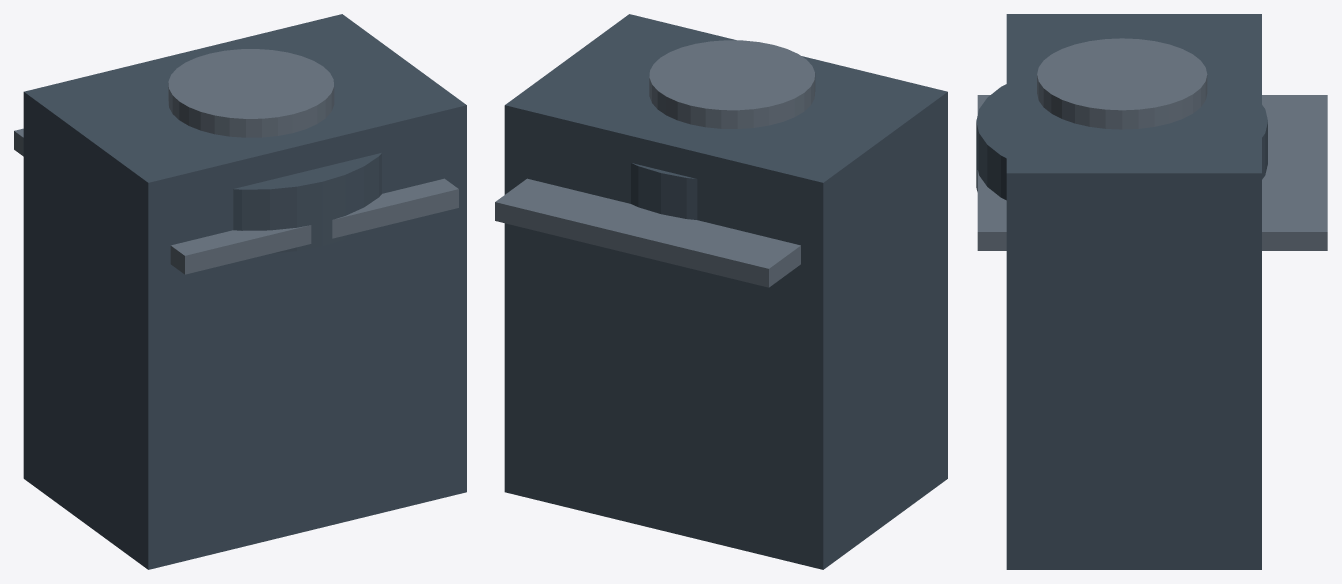
File: current_transformer.glb
3 renders of one model, left to right at view 1: azimuth 30°, elevation 25°; view 2: azimuth 150°, elevation 25°; view 3: azimuth 270°, elevation 25°, orthographic. The views are drawn at different scales.
Visible parts, largest first — view 1: current_transformer_0, current_transformer_4, current_transformer_3, current_transformer_1; view 2: current_transformer_0, current_transformer_1, current_transformer_4, current_transformer_3; view 3: current_transformer_0, current_transformer_4, current_transformer_1, current_transformer_3.
Part boxes in pixels (<box>): current_transformer_0: <box>23,14,466,569</box>; current_transformer_4: <box>168,49,334,137</box>; current_transformer_3: <box>233,153,381,253</box>; current_transformer_1: <box>14,128,458,274</box>; current_transformer_0: <box>504,14,947,569</box>; current_transformer_1: <box>495,178,800,287</box>; current_transformer_4: <box>649,40,815,128</box>; current_transformer_3: <box>631,163,697,219</box>; current_transformer_0: <box>1006,14,1261,569</box>; current_transformer_4: <box>1037,38,1207,129</box>; current_transformer_1: <box>977,95,1327,250</box>; current_transformer_3: <box>976,84,1267,200</box>.
Bounding box in the file's own units: 0.62 × 0.755 × 0.578.
